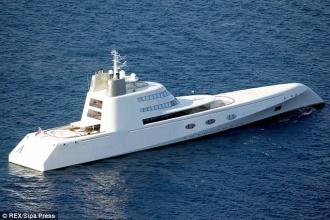yacht: (3, 50, 323, 170)
